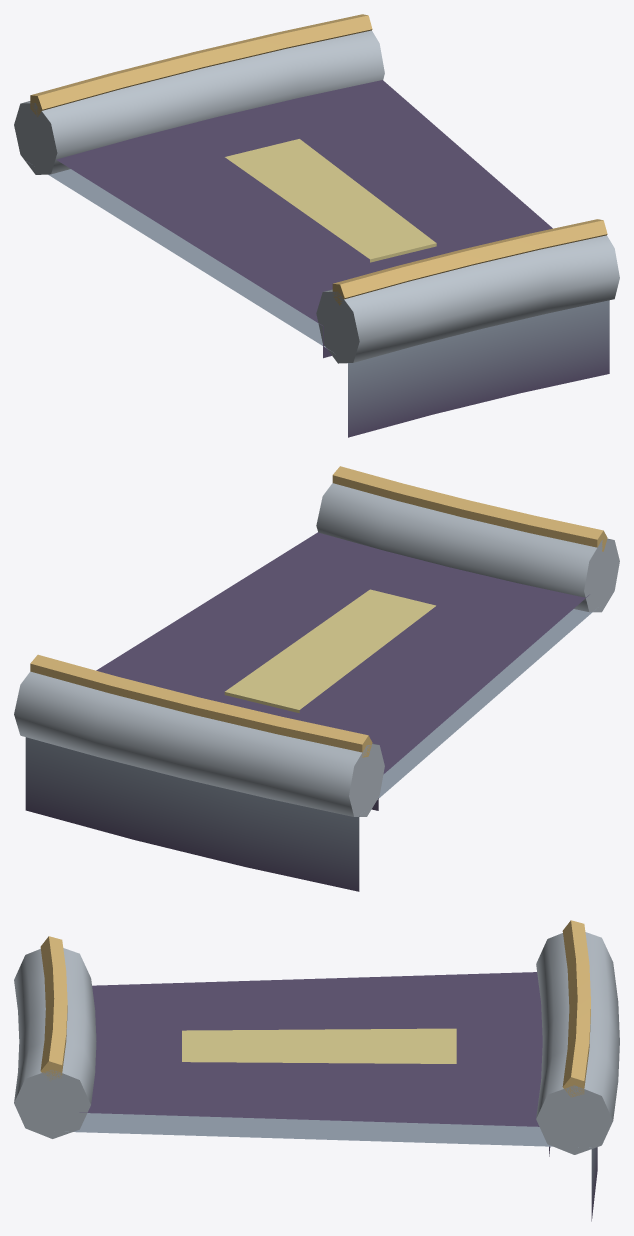
Rendered from beltArc.glb.
3 renders of one model, top to bottom at view 1: azimuth 30°, elevation 25°; view 2: azimuth 150°, elevation 25°; view 3: azimuth 270°, elevation 25°, orthographic. The views are drawn at different scales.
Parts seen in each view (by area): view 1: Body; view 2: Body; view 3: Body.
Part boxes in pixels (x1,y1,x2,y2): Body: [14, 14, 619, 437]; Body: [14, 466, 619, 891]; Body: [14, 920, 619, 1221].
Bounding box in the file's own units: 4.38 × 1.85 × 7.06.
